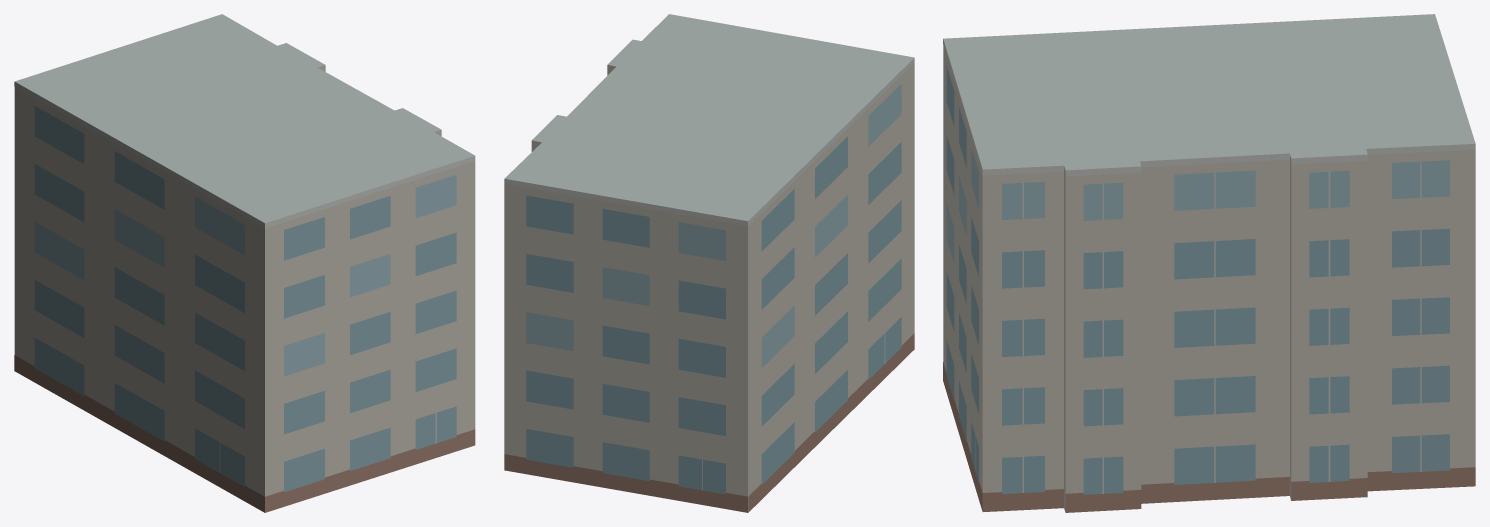
Rendered from survey-upis-32744324.glb.
3 renders of one model, left to right at view 1: azimuth 30°, elevation 25°; view 2: azimuth 150°, elevation 25°; view 3: azimuth 270°, elevation 25°, orthographic. The views are drawn at different scales.
Parts seen in each view (by area): view 1: survey-upis-32744324.tmp; view 2: survey-upis-32744324.tmp; view 3: survey-upis-32744324.tmp.
Part boxes in pixels (box(x1,y1,x2,y2)): survey-upis-32744324.tmp: box(14, 14, 475, 512); survey-upis-32744324.tmp: box(504, 14, 914, 512); survey-upis-32744324.tmp: box(943, 14, 1475, 512).
Bounding box in the file's own units: 13.62 × 13.9 × 19.6.
